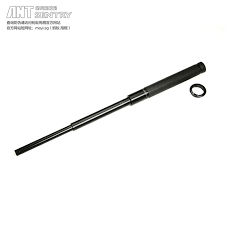straight_bar: (6, 57, 213, 163)
